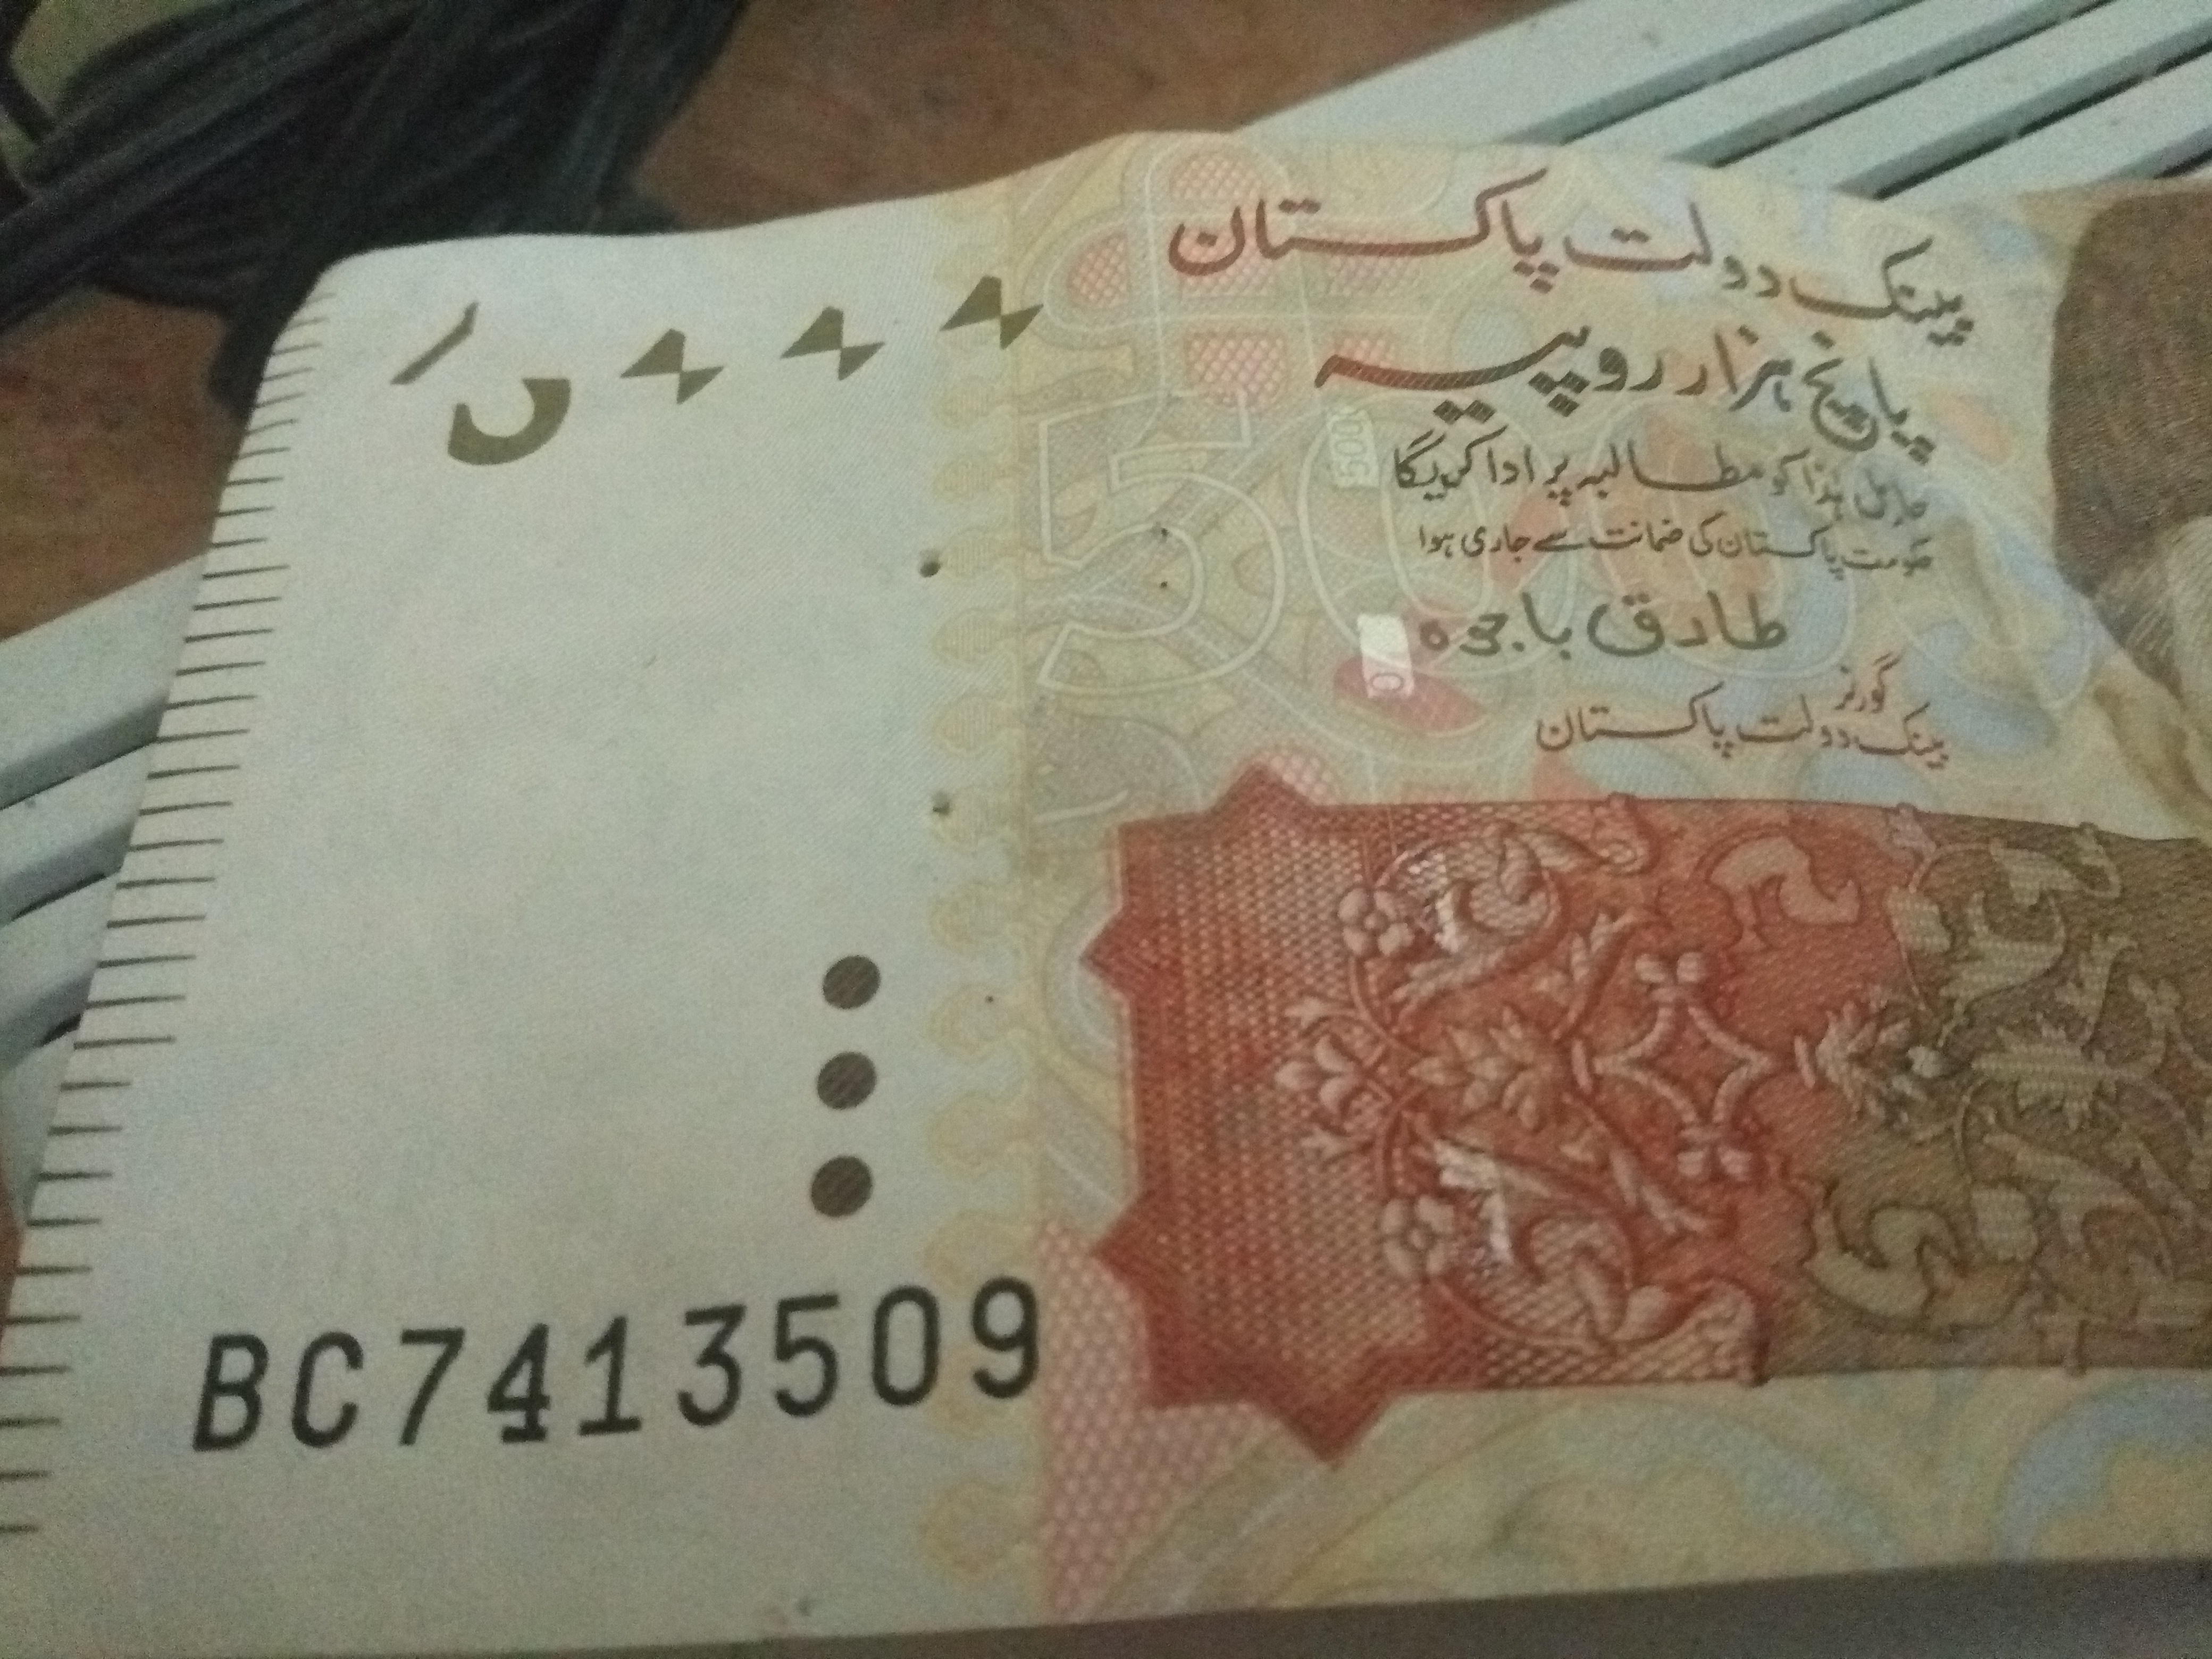5000 rupee: (68, 216, 2207, 1621), (679, 854, 1082, 1260)
